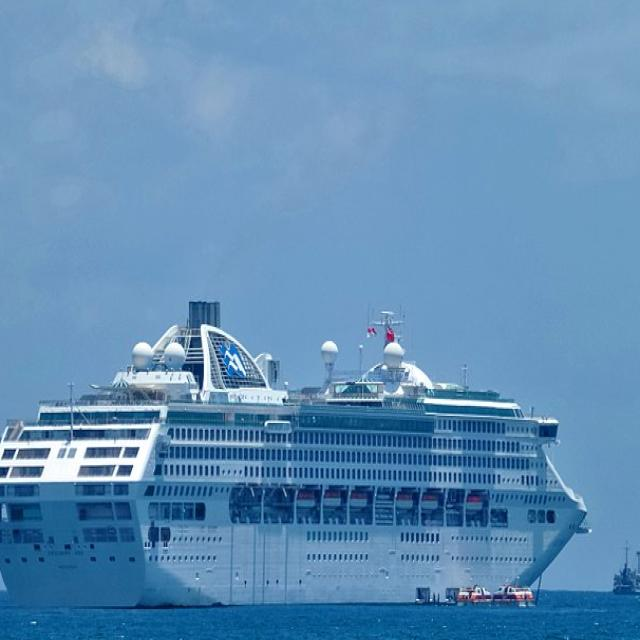passenger ship: (0, 295, 598, 606)
